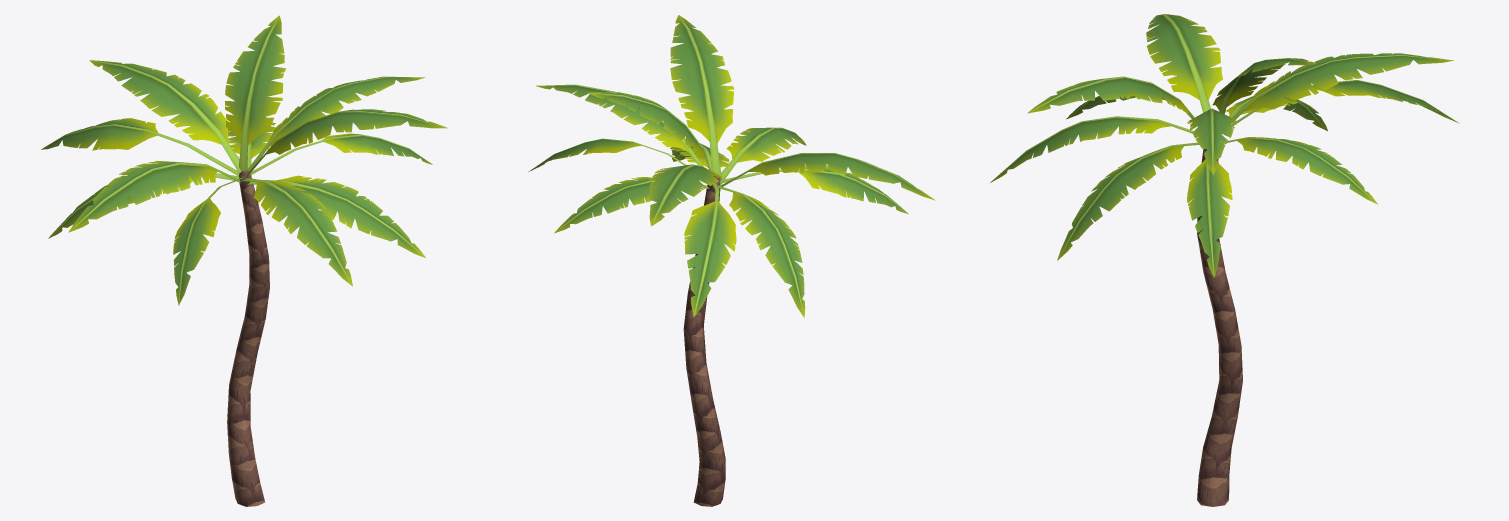
Rendered from palmtree_1.glb.
3 renders of one model, left to right at view 1: azimuth 30°, elevation 25°; view 2: azimuth 150°, elevation 25°; view 3: azimuth 270°, elevation 25°, orthographic. The views are drawn at different scales.
Visible parts, largest first — view 1: PalmTree_1; view 2: PalmTree_1; view 3: PalmTree_1.
Boxes of the visible parts, left/top/right/bottom form: PalmTree_1: left=41, top=15, right=447, bottom=506; PalmTree_1: left=528, top=15, right=935, bottom=506; PalmTree_1: left=990, top=14, right=1459, bottom=506.
Size of the model in its own units: 5.09 by 5.1 by 4.95.
2 materials, 2 textured.
